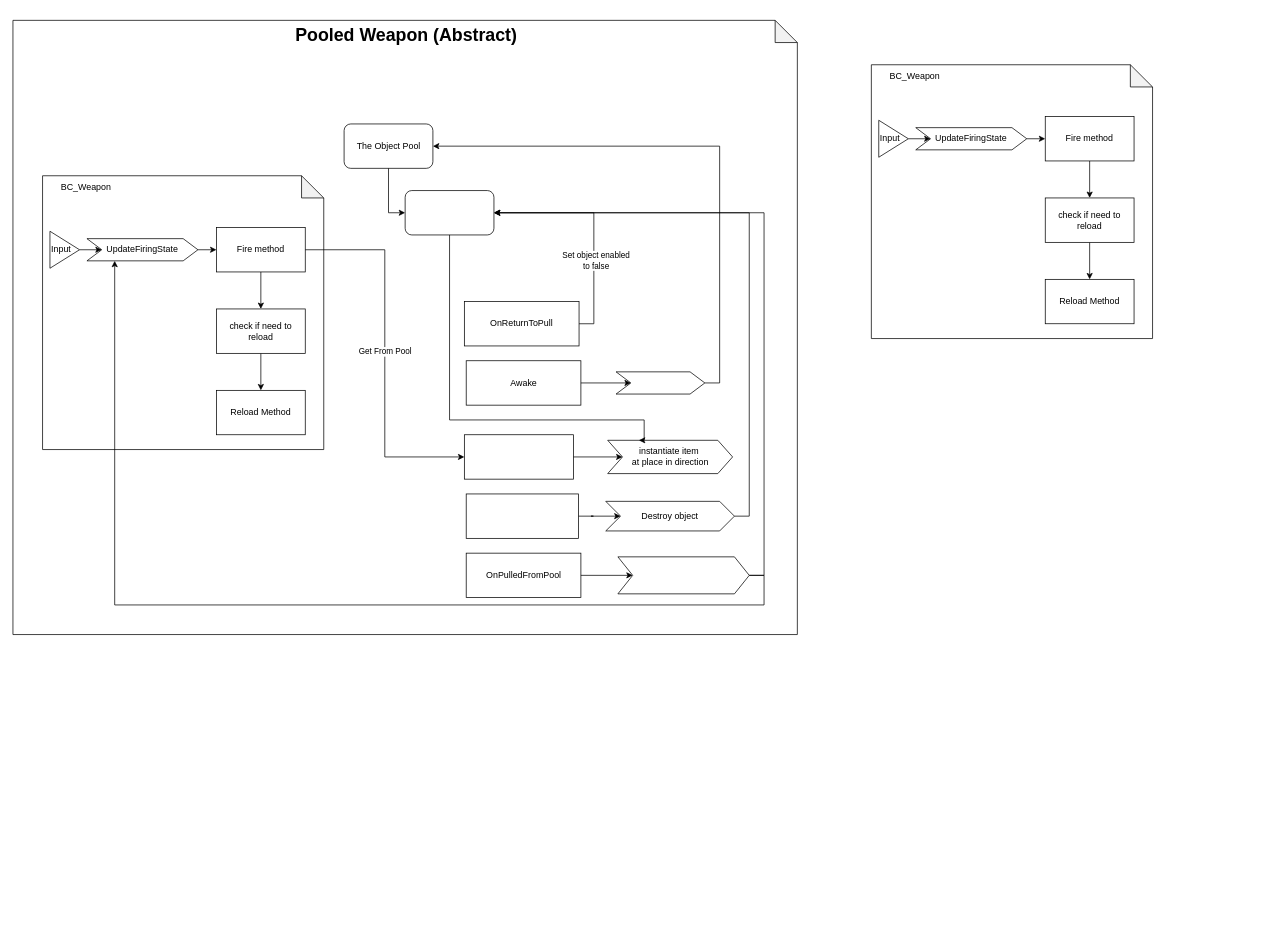
The diagram is 1277 pixels wide and 943 high, and some of its shapes have lost their labels. The centre of each missing label's shape, as x and y in pixels:
DestroyPooledObject: point 522,515
Example Object: point 449,212
Notfiy gun and projectile: point 683,575
OnCreatePooledObject: point 518,456
Setup Pool: point 660,382
